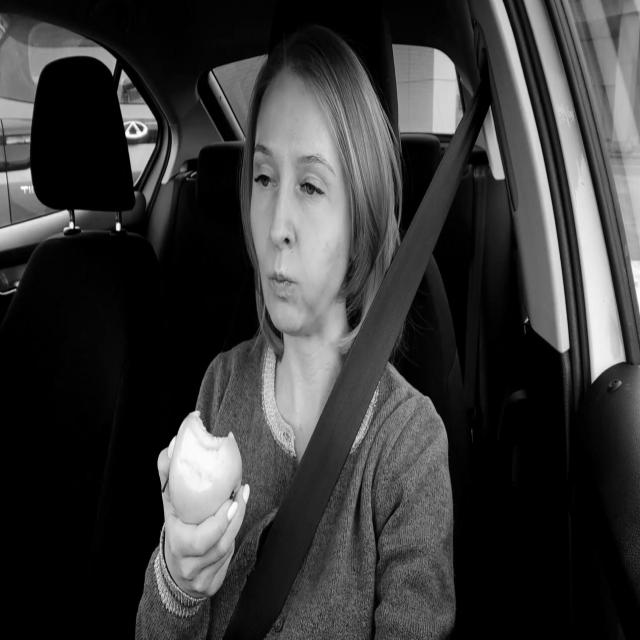Eating: (164, 406, 246, 526)
Seatbelt: (223, 69, 492, 640)
